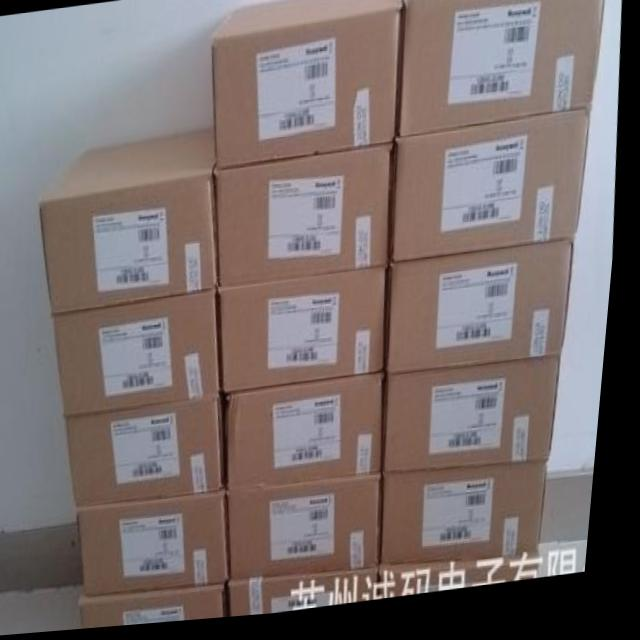box: (41, 130, 222, 318), (214, 0, 402, 171), (397, 118, 593, 270), (400, 0, 606, 144), (219, 149, 399, 295), (395, 249, 580, 380), (223, 271, 396, 402), (60, 292, 228, 421), (393, 368, 567, 481), (231, 380, 394, 493), (74, 397, 234, 512), (393, 468, 558, 570), (236, 480, 392, 587), (85, 493, 241, 599), (239, 575, 389, 622), (391, 562, 550, 604), (92, 587, 241, 631)
